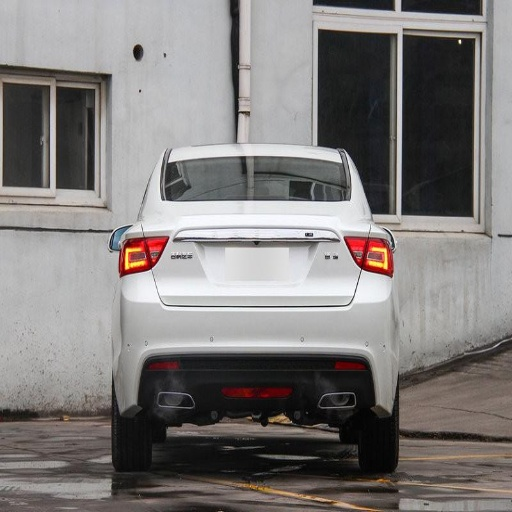back_bumper: (116, 269, 392, 425)
tailgate: (223, 200, 368, 306)
trunk: (129, 203, 361, 308)
